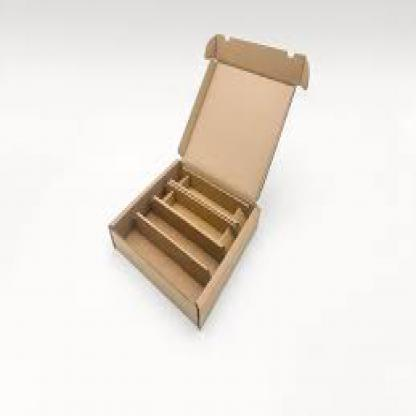CARDBOARD: (106, 34, 307, 326)
